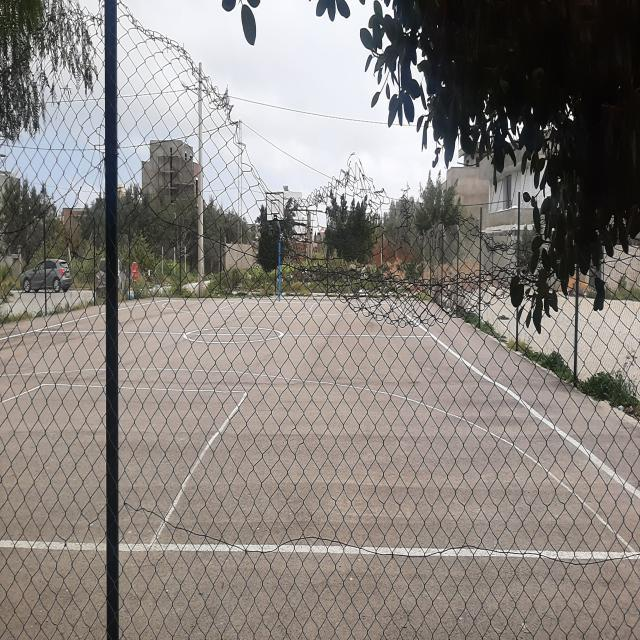fence line: (208, 46, 554, 298)
